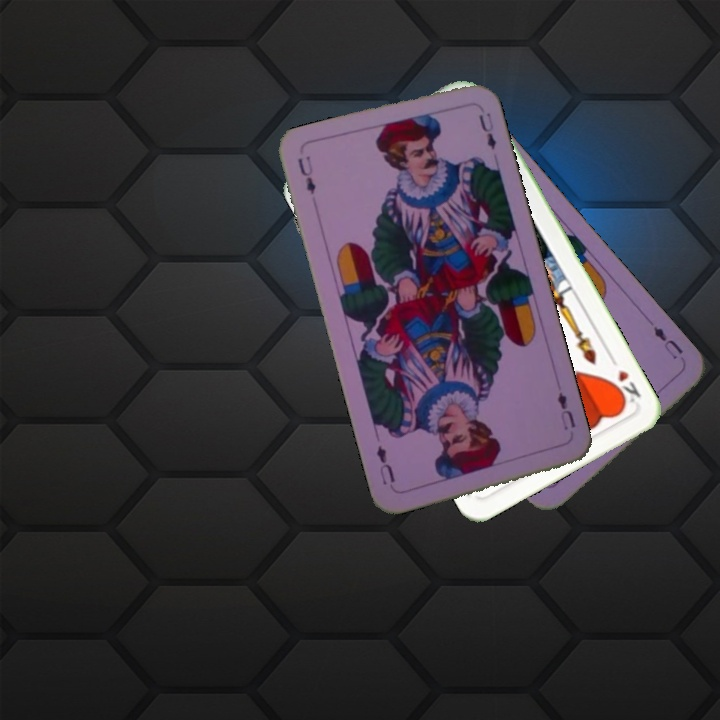EU: (649, 322, 686, 362), (293, 151, 318, 198), (553, 388, 579, 433)
HK: (608, 366, 644, 408)
